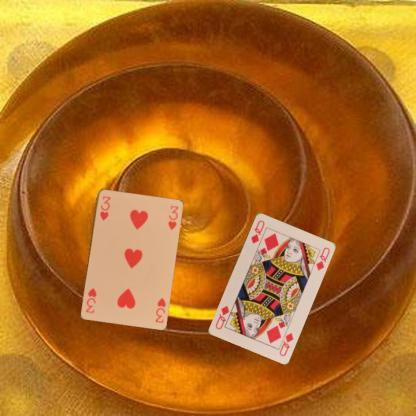3h: (97, 193, 112, 221), (153, 295, 167, 324)
Qd: (276, 327, 294, 357), (248, 217, 266, 245)
